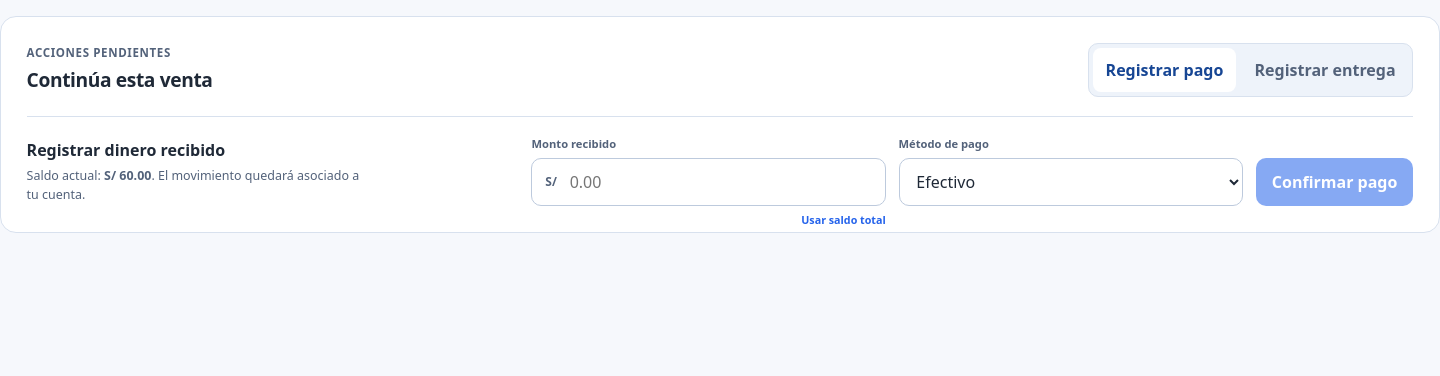
Test case: sale pending actions › records the exact remaining balance with a reusable idempotency key
Click the button "Usar saldo total" at point(843, 220), box top-left (801, 212), bottom-right (886, 228)
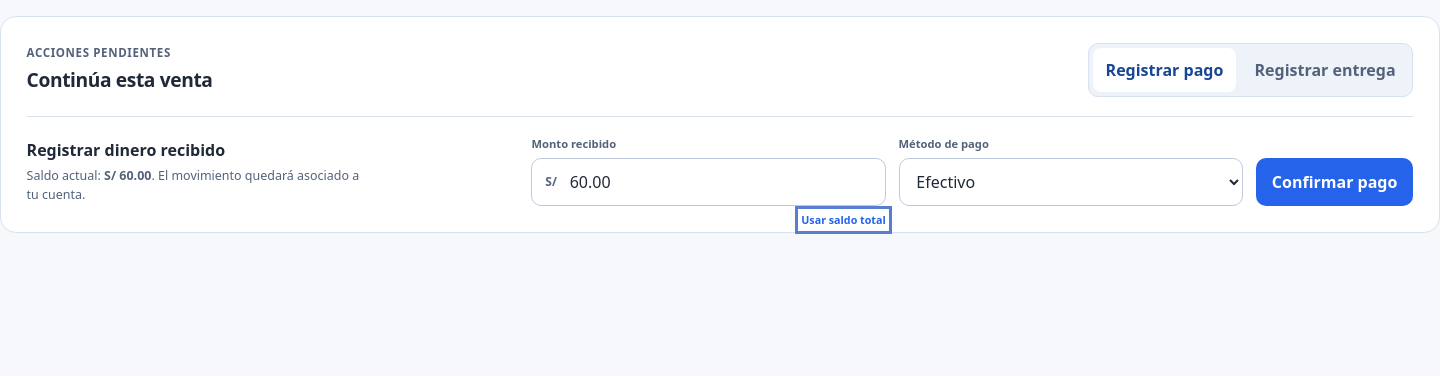
Click the button "Confirmar pago" at point(1335, 182), box top-left (1256, 158), bottom-right (1413, 206)
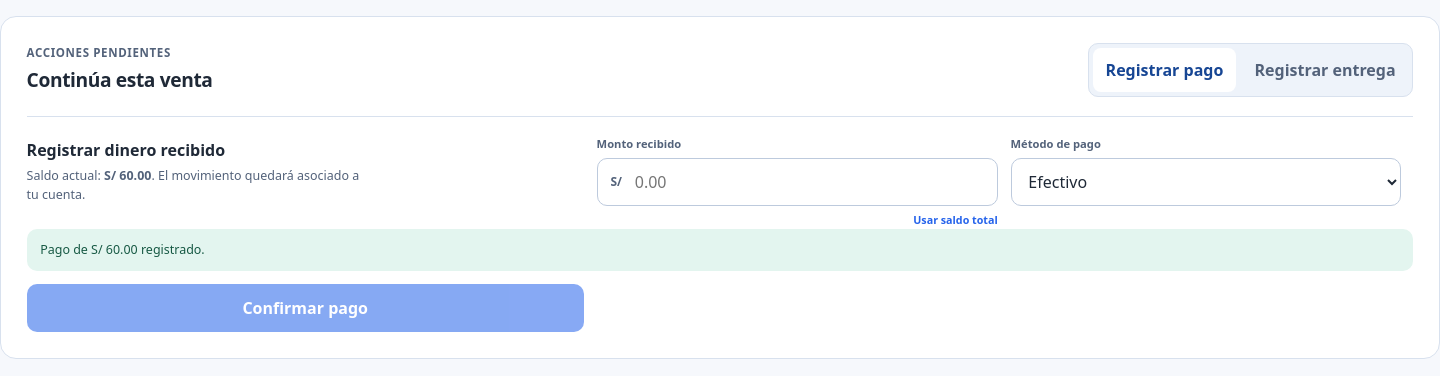
Expected: the text "Pago de S/ 60.00 registrado." is shown, top-left (27, 229), bottom-right (1413, 272)
